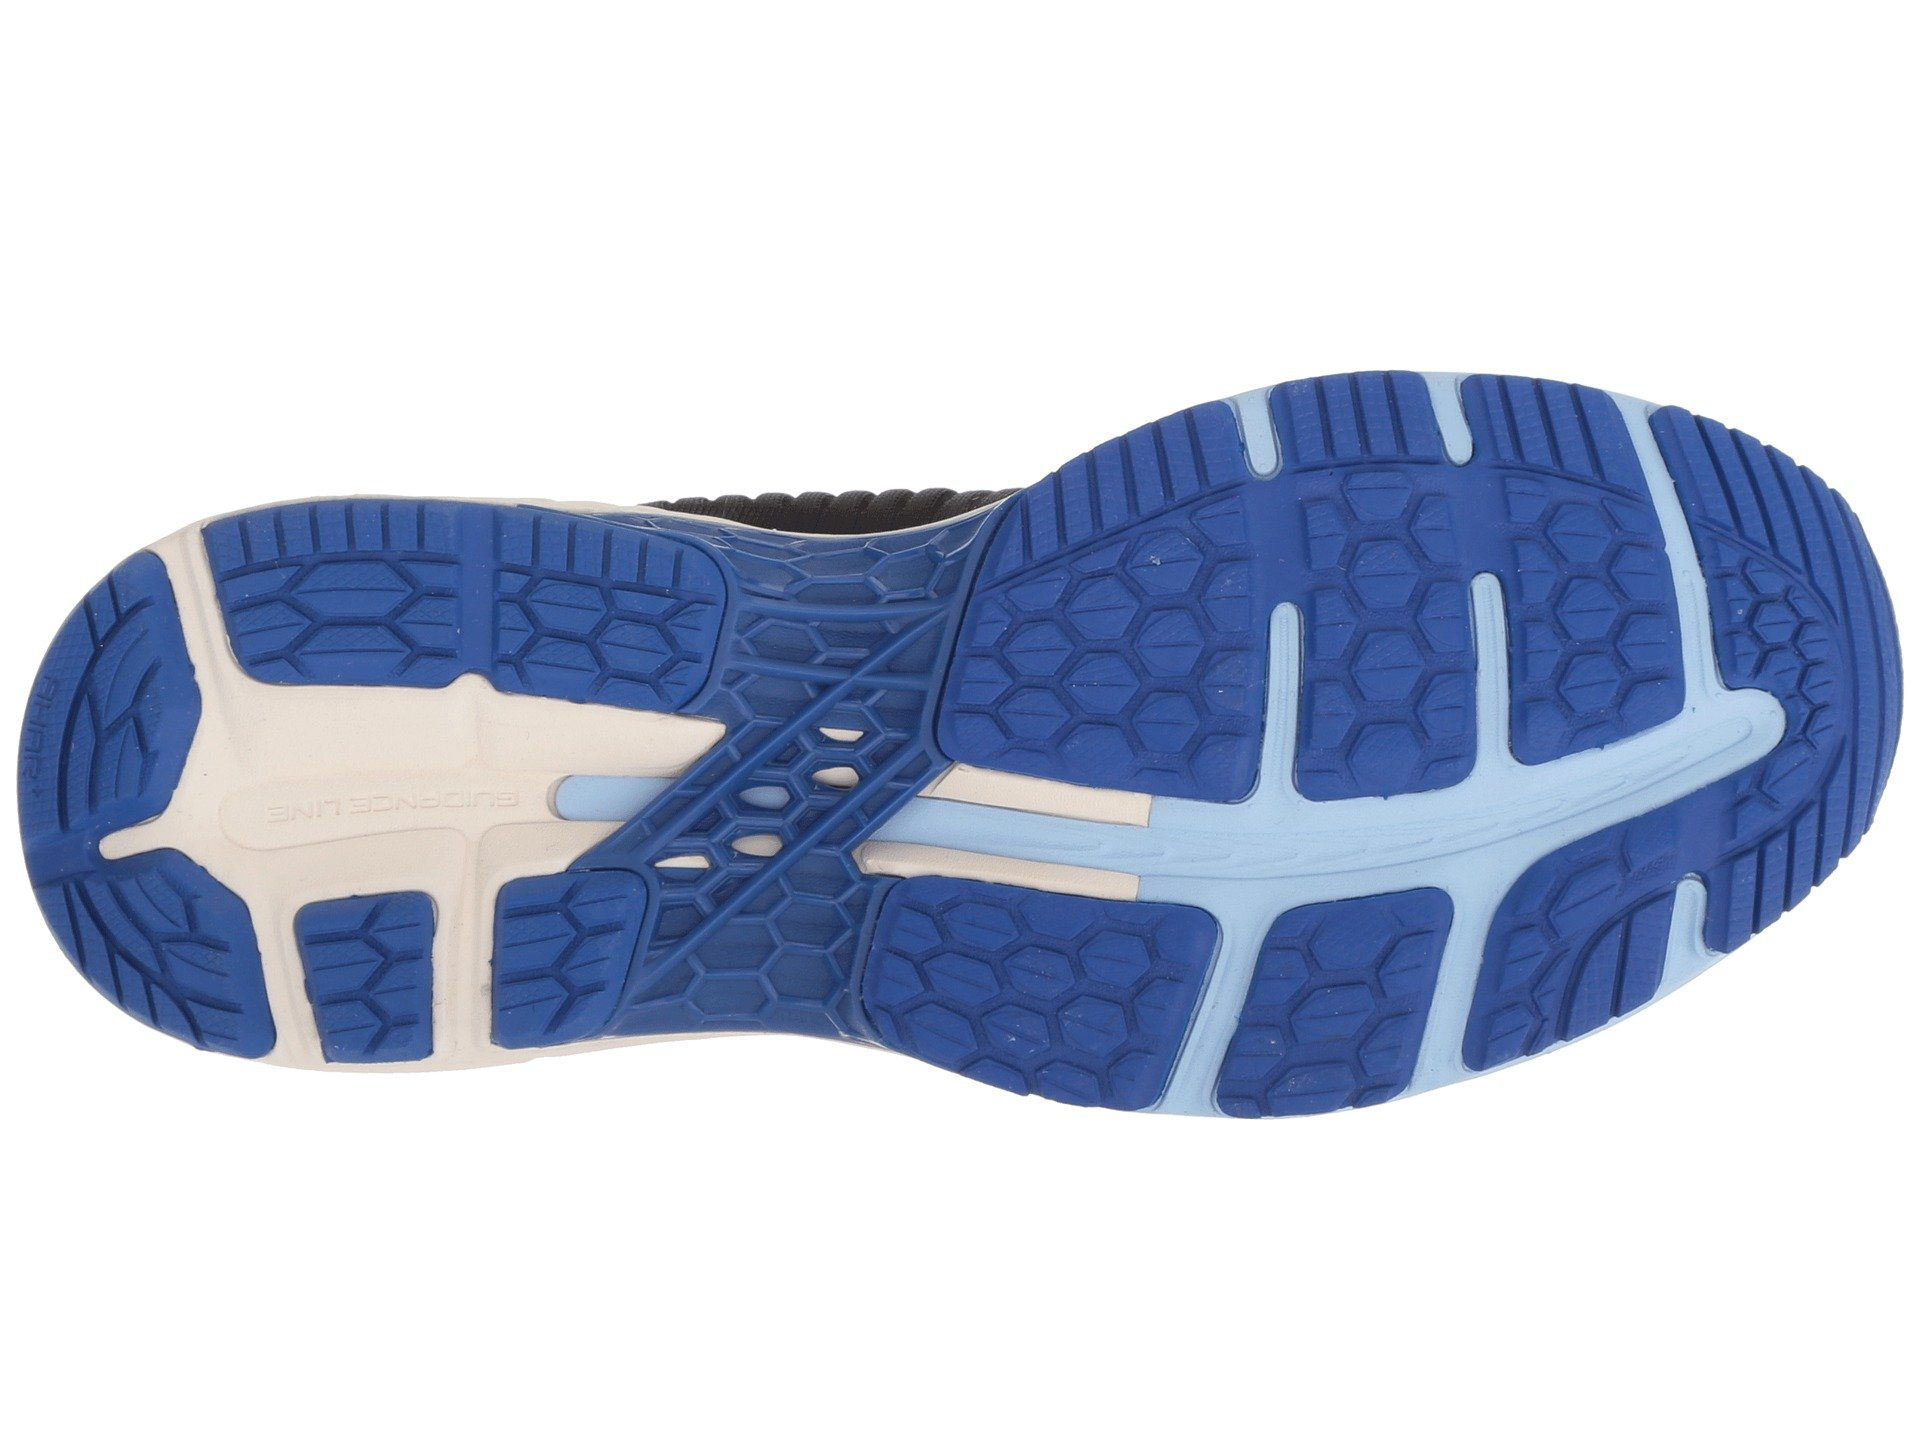line: (998, 213, 1203, 408), (1471, 159, 1658, 318), (695, 352, 871, 499), (1300, 175, 1448, 348), (1256, 557, 1412, 715)
polygon: (998, 213, 1203, 408), (925, 528, 1107, 712), (1471, 159, 1658, 318), (695, 352, 871, 499), (1300, 175, 1448, 348), (1256, 557, 1412, 715), (246, 197, 417, 318)
quad: (998, 213, 1203, 408), (1471, 159, 1658, 318), (1300, 175, 1448, 348), (1256, 557, 1412, 715)
